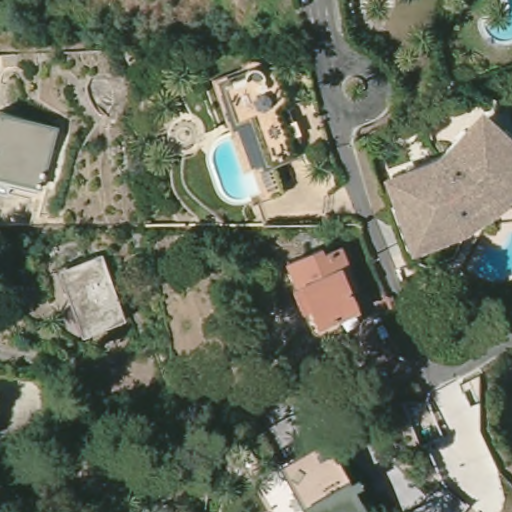pool: (213, 137, 264, 200), (468, 219, 512, 284), (479, 9, 512, 41)
